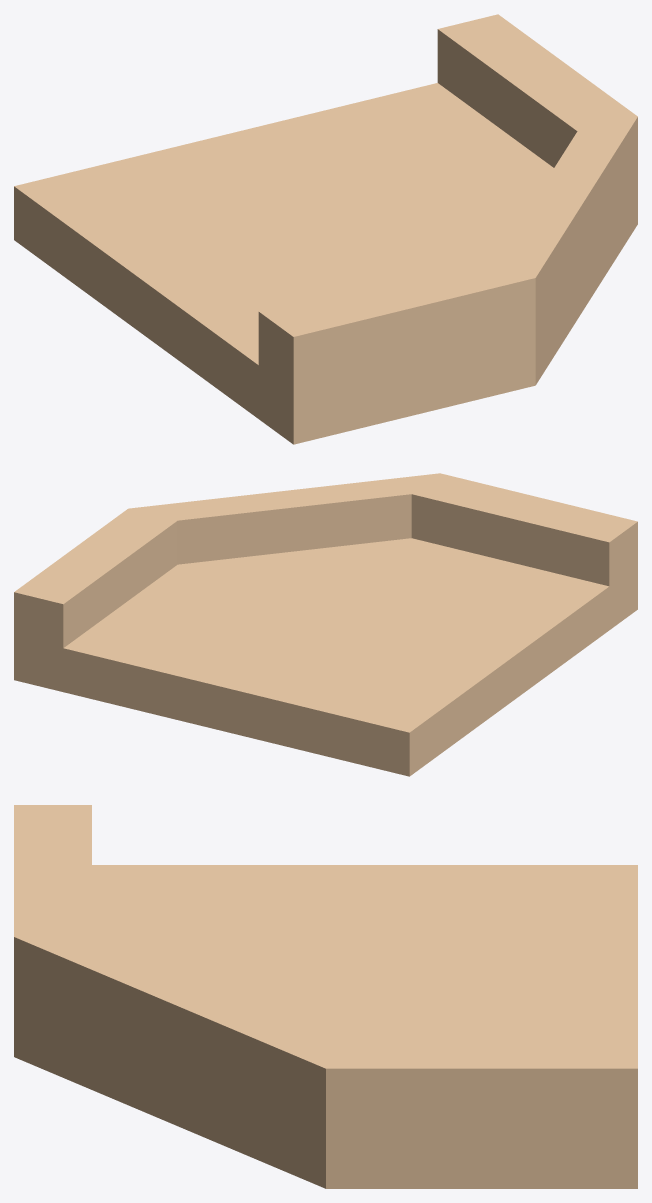
Rendered from roof-flat-border-corner-slanted.obj.
3 views of the same model, one above another, from view 1: azimuth 30°, elevation 25°; view 2: azimuth 150°, elevation 25°; view 3: azimuth 270°, elevation 25° (orthographic). The views are drawn at different scales.
Size of the model in its own units: 1 by 0.2125 by 1.
